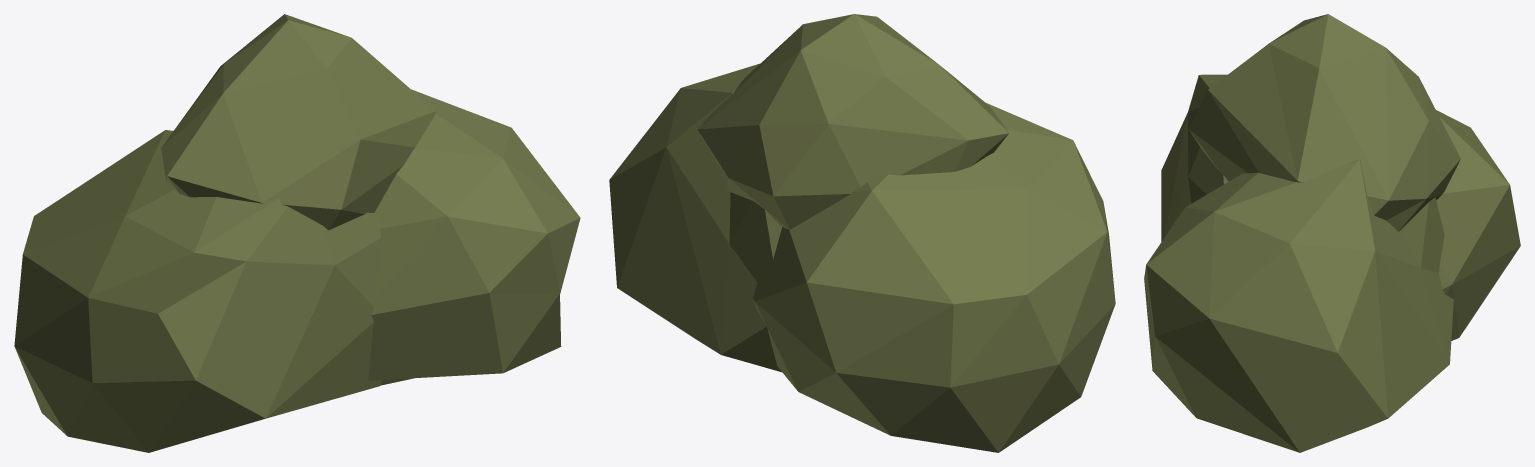
The model's file is Bush_03.fbx.
3 renders of one model, left to right at view 1: azimuth 30°, elevation 25°; view 2: azimuth 150°, elevation 25°; view 3: azimuth 270°, elevation 25°, orthographic. The views are drawn at different scales.
Visible parts, largest first — view 1: Bush_03a; view 2: Bush_03a; view 3: Bush_03a.
Boxes of the visible parts, left/top/right/bottom form: Bush_03a: left=14, top=14, right=580, bottom=452; Bush_03a: left=609, top=14, right=1115, bottom=452; Bush_03a: left=1144, top=14, right=1520, bottom=452.
Bounding box in the file's own units: 219 × 161 × 151.
